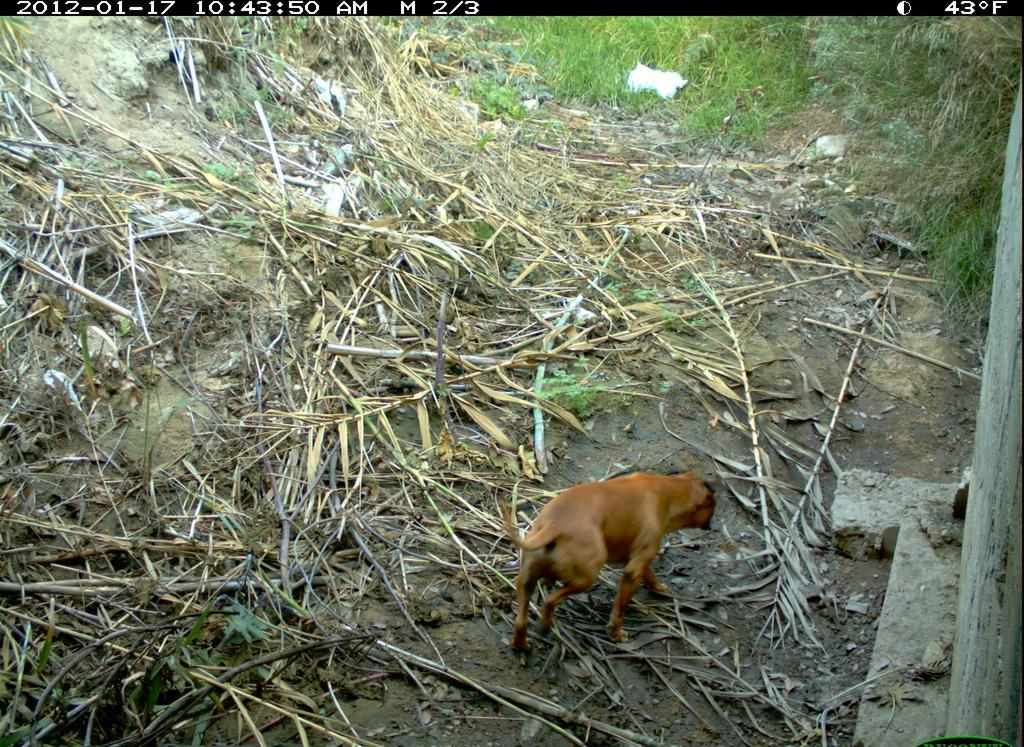dog: (492, 457, 730, 670)
